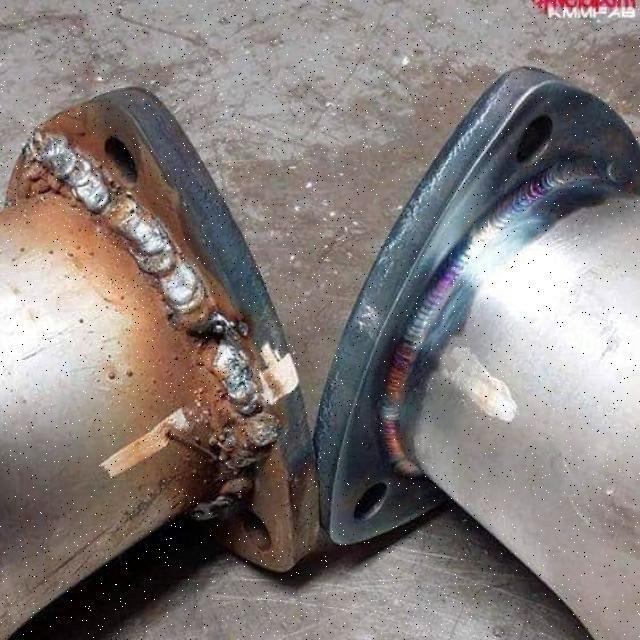Bad Welding: (22, 131, 282, 521)
Good Welding: (380, 158, 629, 477)
